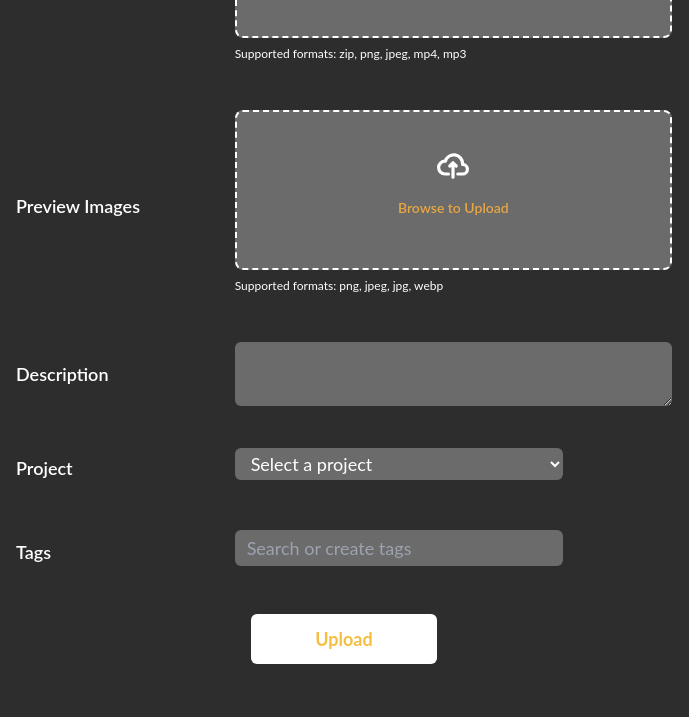
upload Asset Component Rendering › handles tag search and suggestions
(page scrolled)
Type "tag" into the field with id "tag-search" at (399,548), box [235, 530, 563, 566]
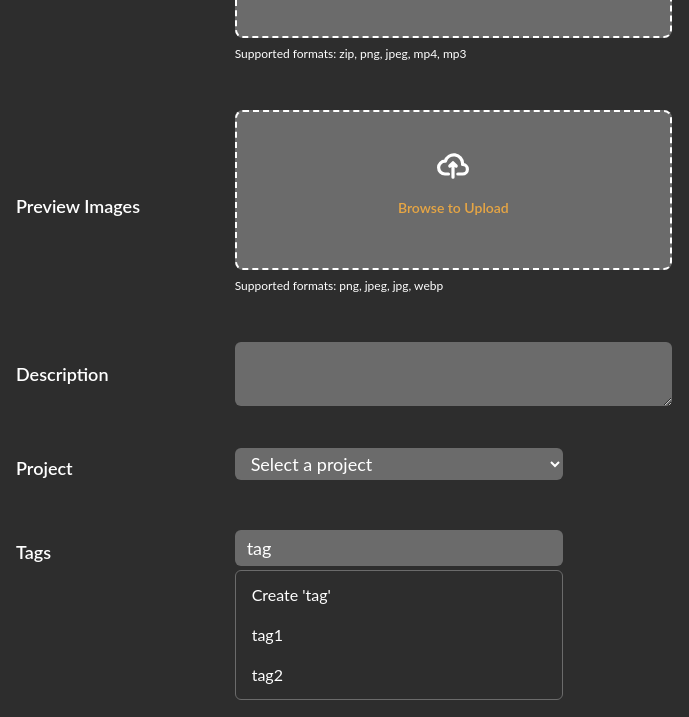
Now the number of list items with class "tag-suggestion" is 3, box [252, 585, 331, 604]; [252, 625, 283, 644]; [252, 665, 283, 684]
Now the list item with class "tag-suggestion" reads "Create 'tag'", box [252, 585, 331, 604]
Now the list item with class "tag-suggestion" shows "tag", box [252, 625, 283, 644]
